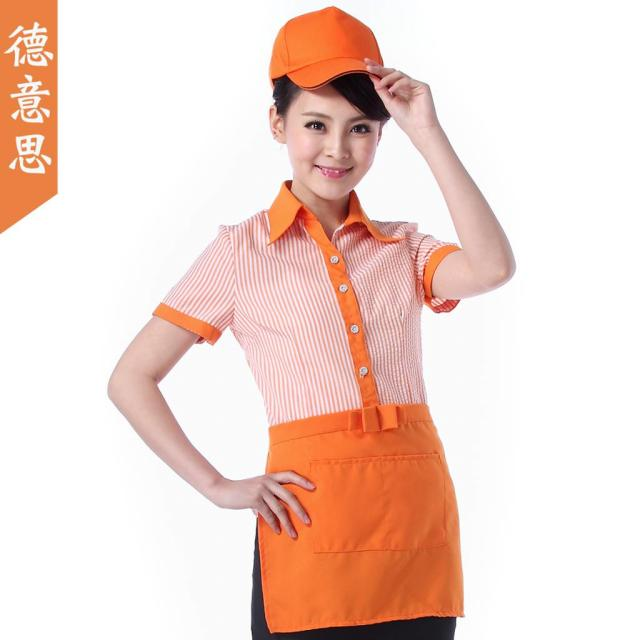nomask: (286, 76, 380, 200)
